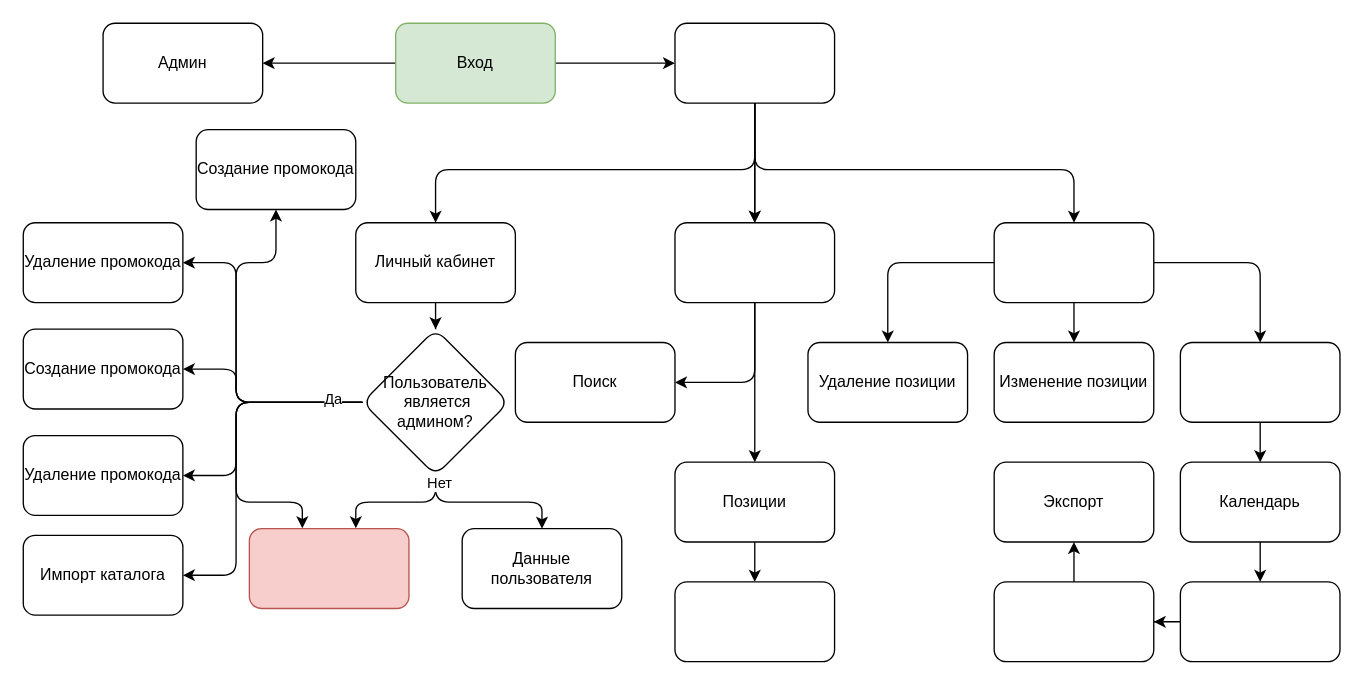
The diagram is 1363 pixels wide and 685 high, and some of its shapes have lost their labels. Each missing label, with the box of its shape:
Выход: (248, 527, 409, 608)
Добавление позиции в корзину: (674, 581, 835, 662)
Каталог: (674, 221, 835, 303)
Клиент: (674, 22, 835, 103)
Корзина: (993, 221, 1154, 303)
Промокод: (1179, 581, 1340, 662)
Расчет стоимости аренды: (1179, 341, 1340, 422)
Сумма стоимости аренды: (993, 581, 1154, 662)
